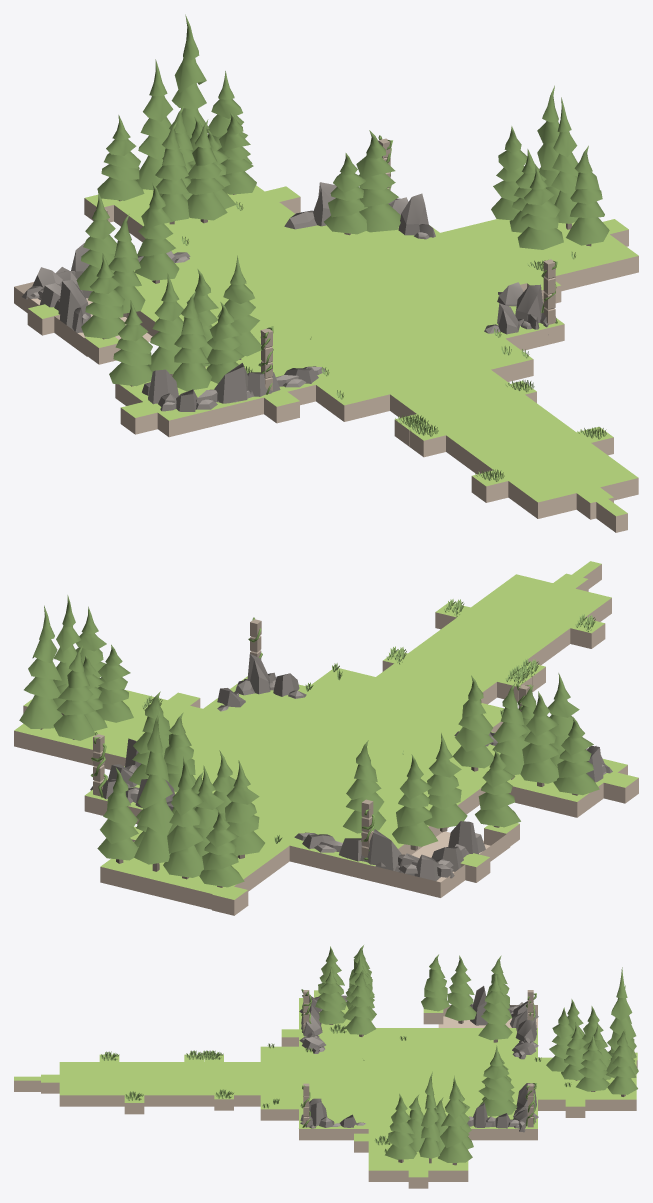
Rendered from lol  c'est la carte.fbx.
The picture shows the model from 3 angles, top to bottom: view 1: azimuth 30°, elevation 25°; view 2: azimuth 150°, elevation 25°; view 3: azimuth 270°, elevation 25°; orthographic projection. The views are drawn at different scales.
Parts seen in each view (by area): view 1: Isometric_Game_Level_Low_Poly; view 2: Isometric_Game_Level_Low_Poly; view 3: Isometric_Game_Level_Low_Poly.
Boxes of the visible parts, x1,y1,x2,y2 form: Isometric_Game_Level_Low_Poly: [14, 14, 638, 532]; Isometric_Game_Level_Low_Poly: [14, 561, 638, 915]; Isometric_Game_Level_Low_Poly: [14, 945, 638, 1188].
Size of the model in its own units: 4435 by 1577 by 6271.
